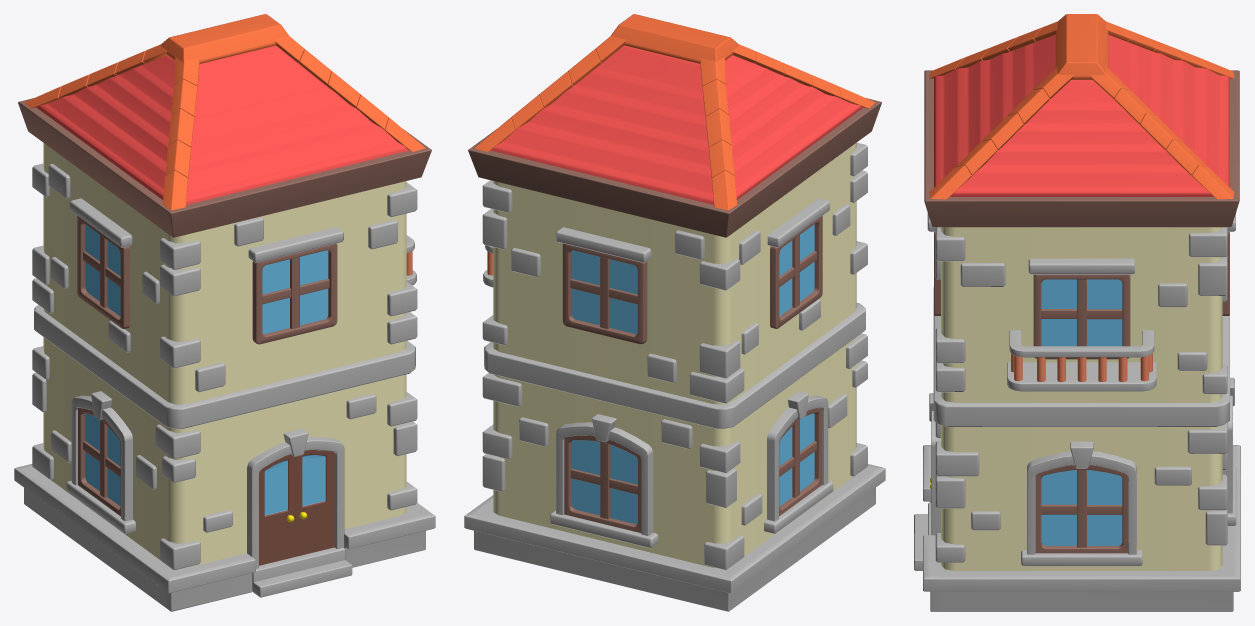
File: Town_3_House_1.glb
The picture shows the model from 3 angles, left to right: view 1: azimuth 30°, elevation 25°; view 2: azimuth 150°, elevation 25°; view 3: azimuth 270°, elevation 25°; orthographic projection. The views are drawn at different scales.
Parts seen in each view (by area): view 1: Town_3_House_1; view 2: Town_3_House_1; view 3: Town_3_House_1.
Boxes of the visible parts, x1,y1,x2,y2 form: Town_3_House_1: (14,14,435,611); Town_3_House_1: (464,14,885,611); Town_3_House_1: (914,14,1240,611).
Size of the model in its own units: 6.85 by 11.03 by 6.4.
1 material, 1 textured.
